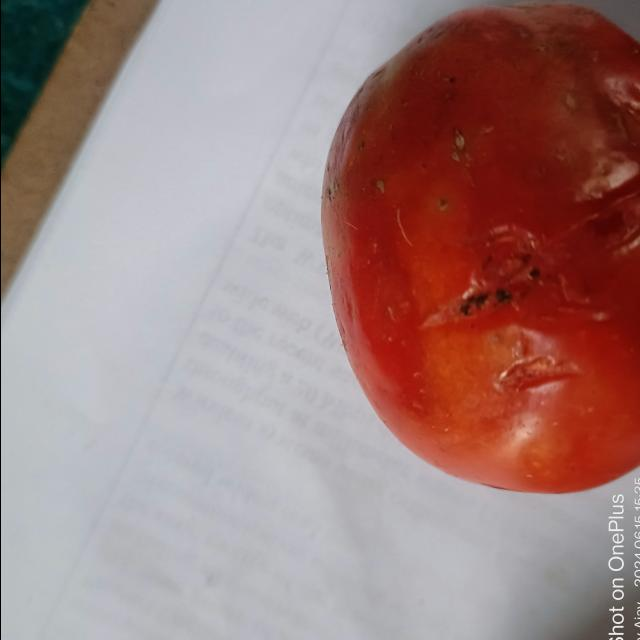Botrytis: (457, 247, 537, 319), (593, 196, 631, 240)
